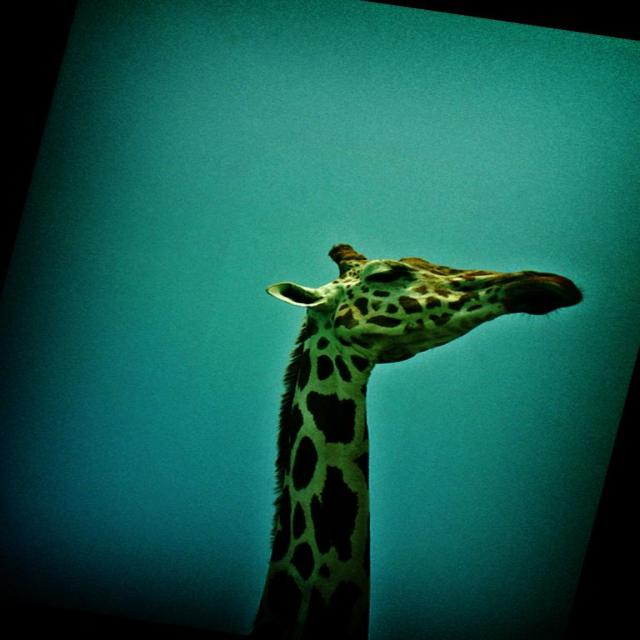Giraffe: (237, 221, 587, 631)
